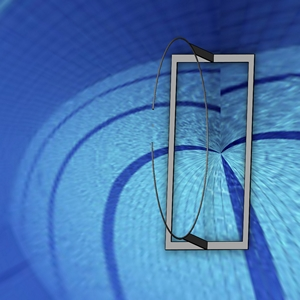circle: (144, 27, 254, 252), (148, 34, 214, 239)
